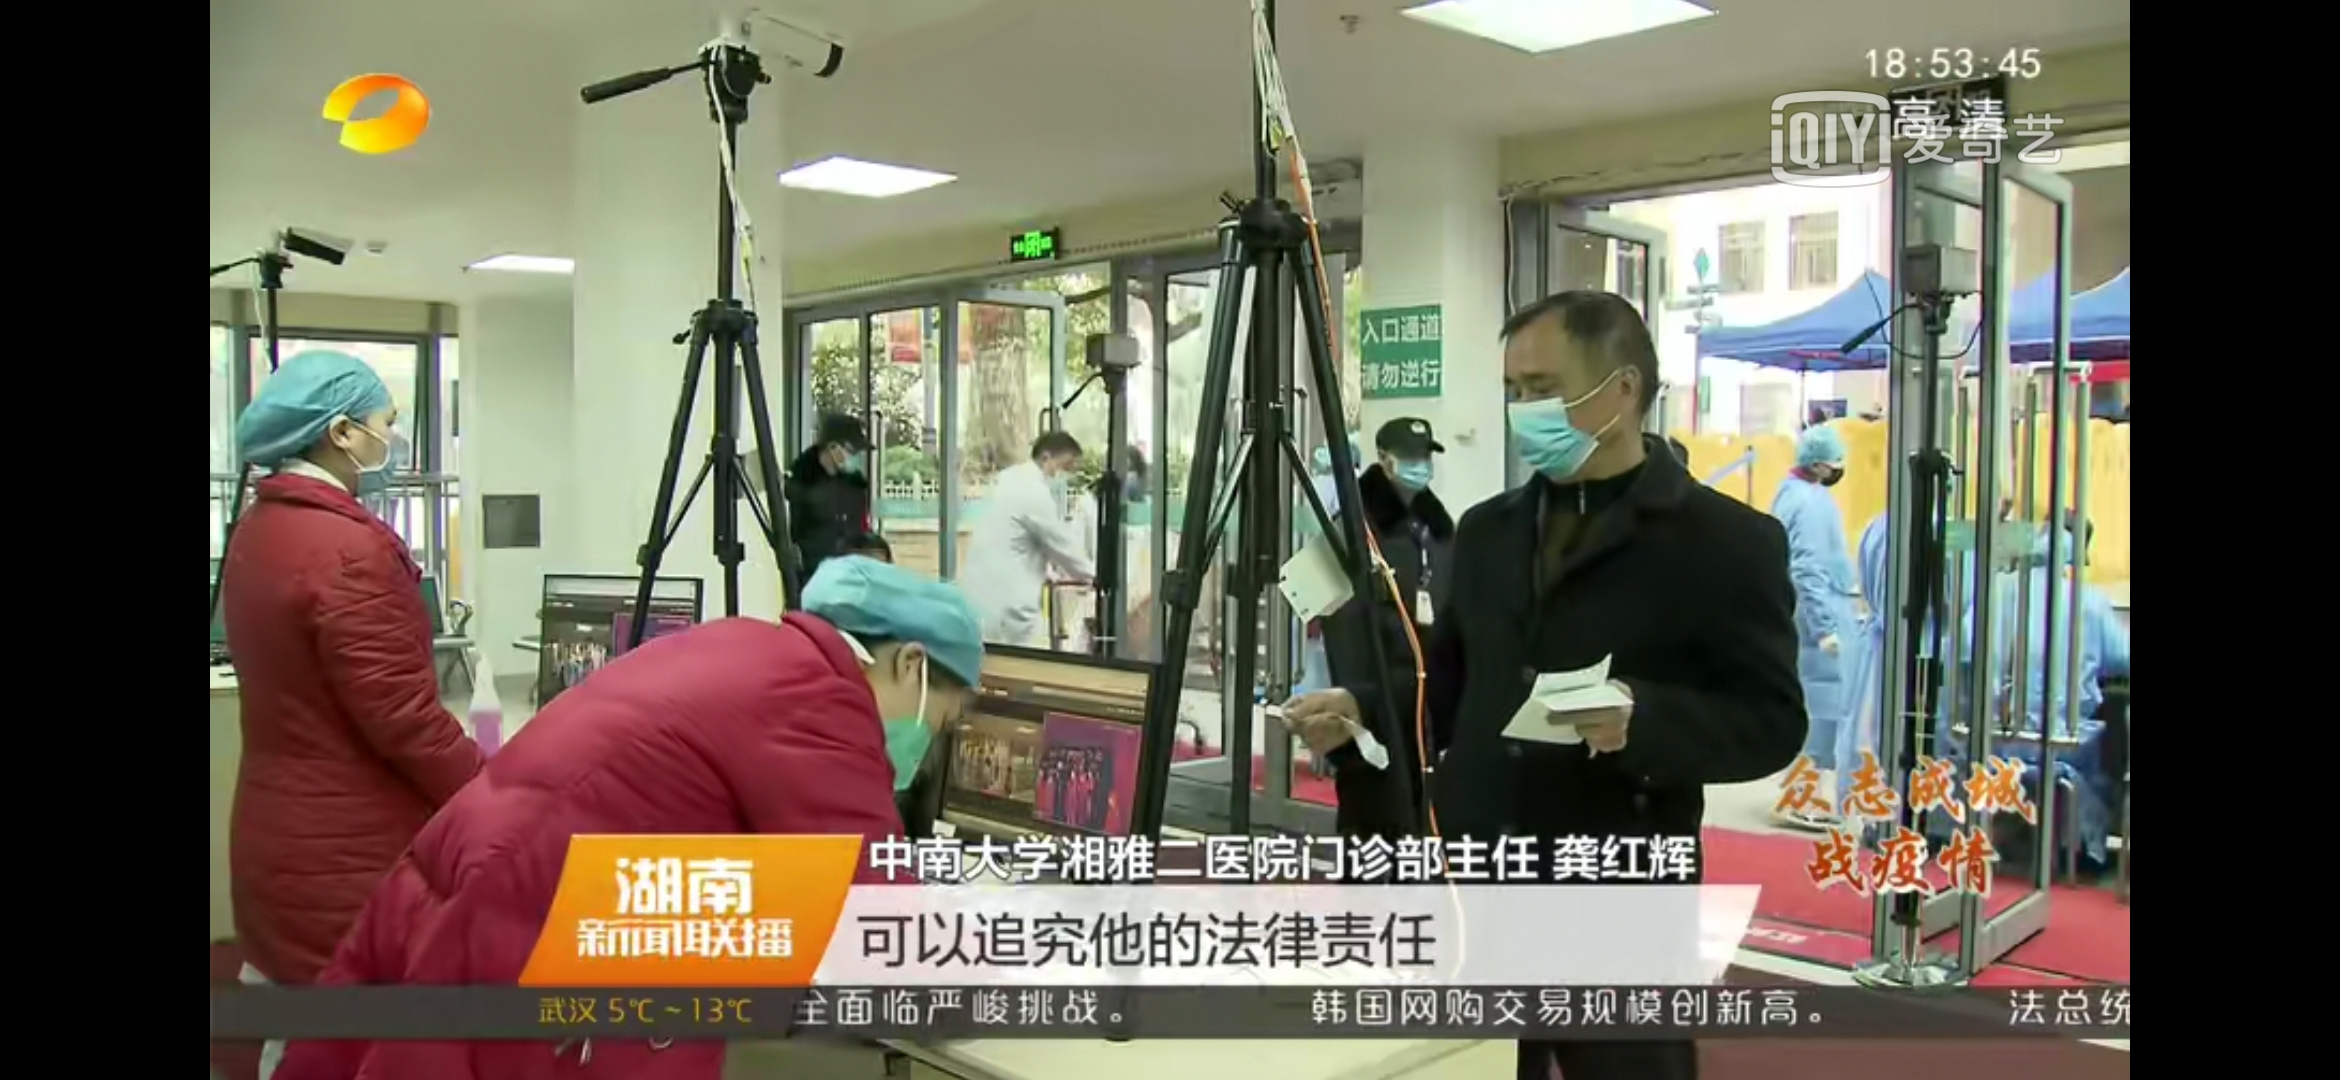correctlyWear: (1498, 357, 1643, 489), (872, 632, 963, 801), (319, 400, 413, 506), (1380, 439, 1440, 498), (1807, 440, 1848, 491), (1042, 443, 1076, 492), (830, 430, 866, 473)
